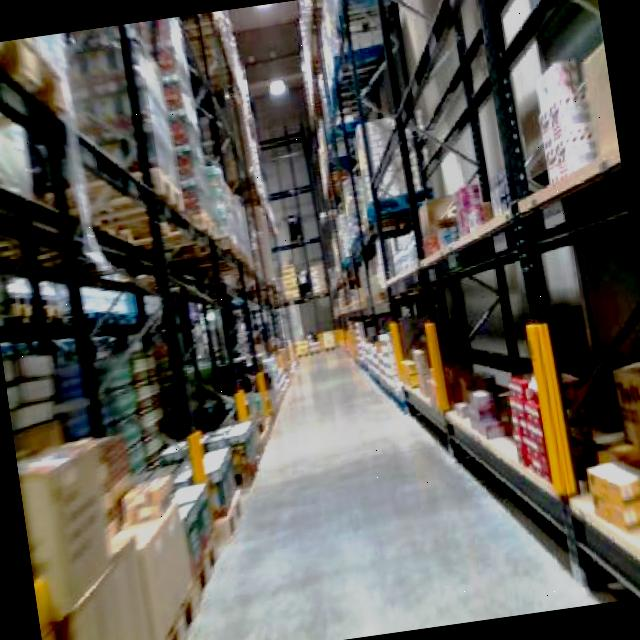ground: (96, 307, 629, 640)
pallet: (308, 0, 640, 631), (0, 8, 329, 640), (4, 335, 325, 640), (385, 283, 640, 626), (565, 348, 640, 602)
